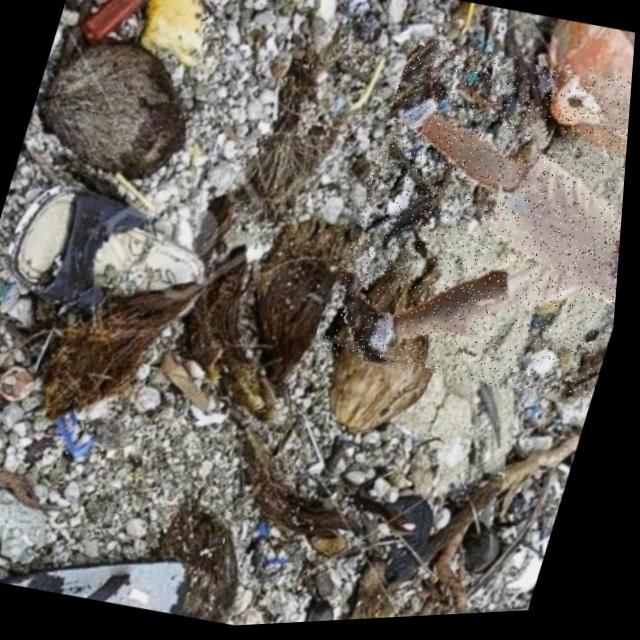Person in Rubble: (316, 32, 637, 422)
